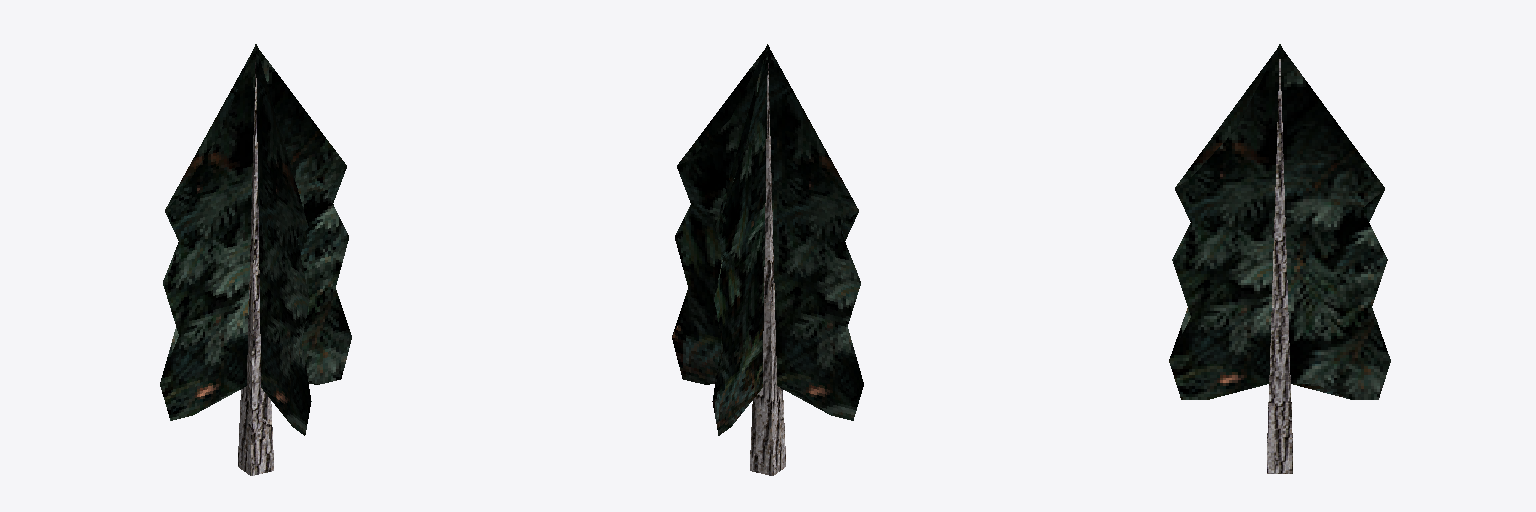
3 views of the same model, side by side, from view 1: azimuth 30°, elevation 25°; view 2: azimuth 150°, elevation 25°; view 3: azimuth 270°, elevation 25° (orthographic).
Visible parts, largest first — view 1: Mesh1 Model; view 2: Mesh1 Model; view 3: Mesh1 Model.
Part boxes in pixels (bbox=[...]): Mesh1 Model: bbox=[160, 44, 351, 475]; Mesh1 Model: bbox=[672, 44, 863, 475]; Mesh1 Model: bbox=[1169, 44, 1390, 473].
Bounding box in the file's own units: 4024 × 8507 × 4024.
3 materials, 2 textured.